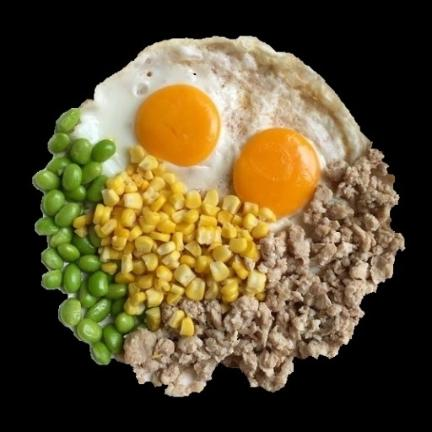corn: (88, 146, 276, 333)
egg: (70, 35, 368, 222)
meat: (126, 149, 399, 395)
peas: (36, 103, 143, 364)
